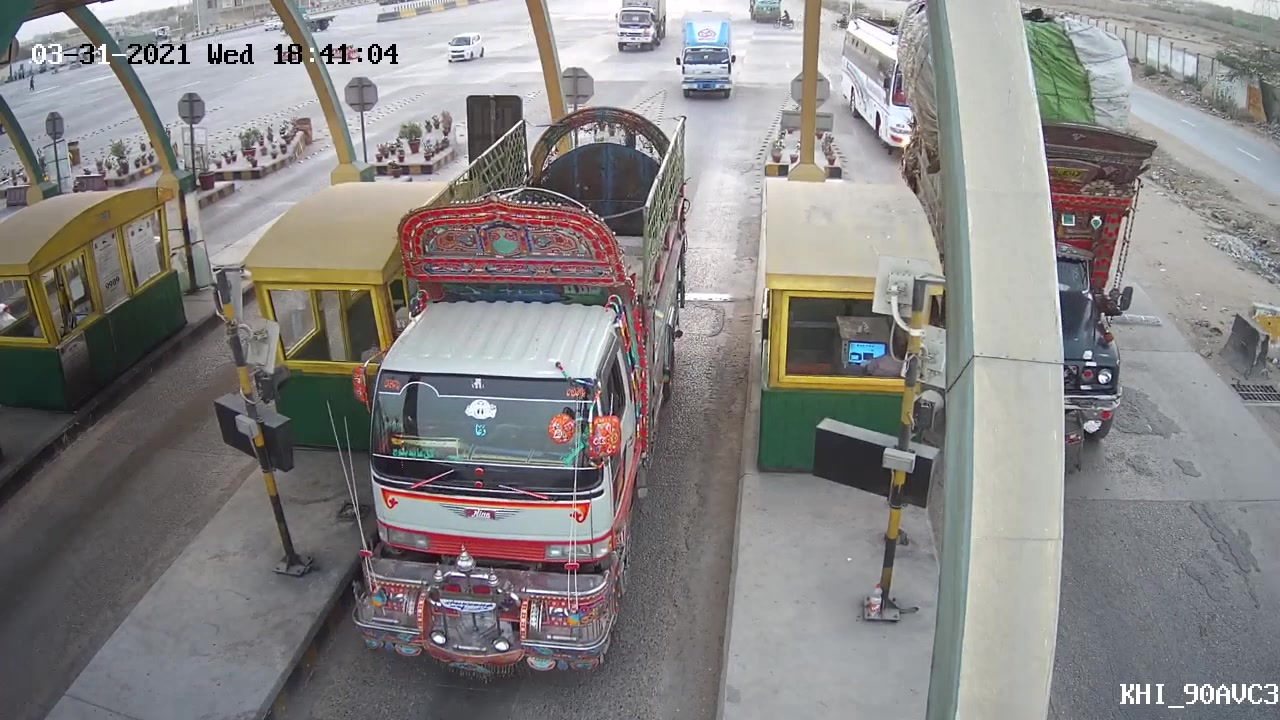F5: (343, 100, 710, 683)
